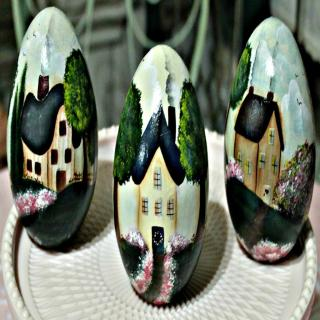Egg: (112, 45, 209, 306), (223, 17, 317, 264), (5, 6, 99, 248)
